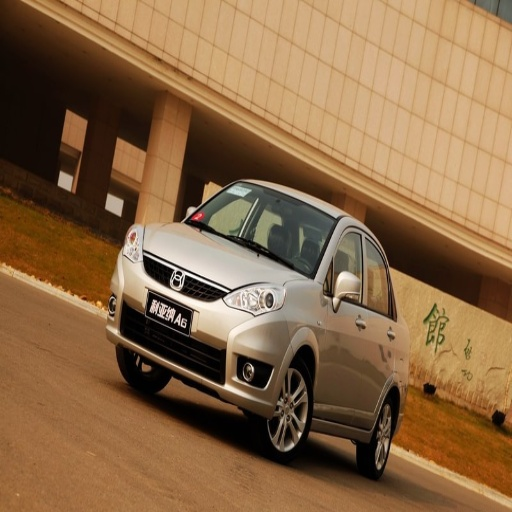front_bumper: (109, 253, 291, 412)
front_glass: (188, 185, 333, 272)
front_left_door: (319, 224, 364, 422)
